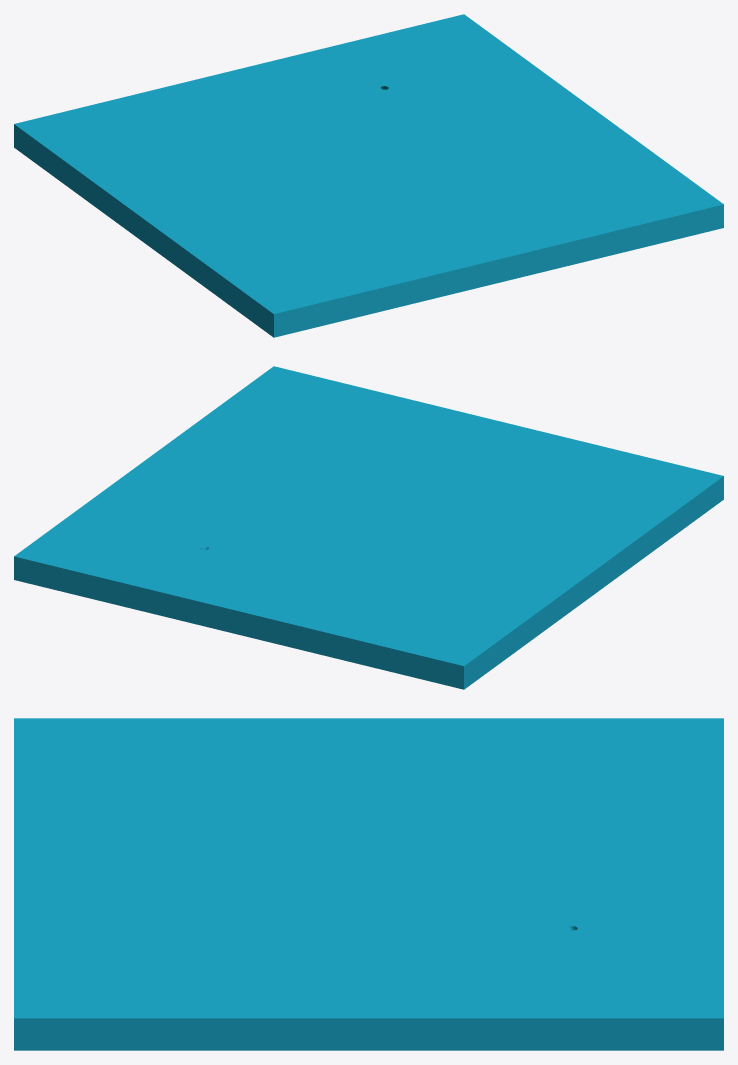
The model's file is floor.dae.
3 views of the same model, one above another, from view 1: azimuth 30°, elevation 25°; view 2: azimuth 150°, elevation 25°; view 3: azimuth 270°, elevation 25° (orthographic). The views are drawn at different scales.
Parts seen in each view (by area): view 1: Cube; view 2: Cube; view 3: Cube.
Part boxes in pixels (left/top/right/bottom): Cube: left=14, top=14, right=723, bottom=337; Cube: left=14, top=366, right=723, bottom=689; Cube: left=14, top=718, right=723, bottom=1050.
Bounding box in the file's own units: 1 × 1 × 0.05.
